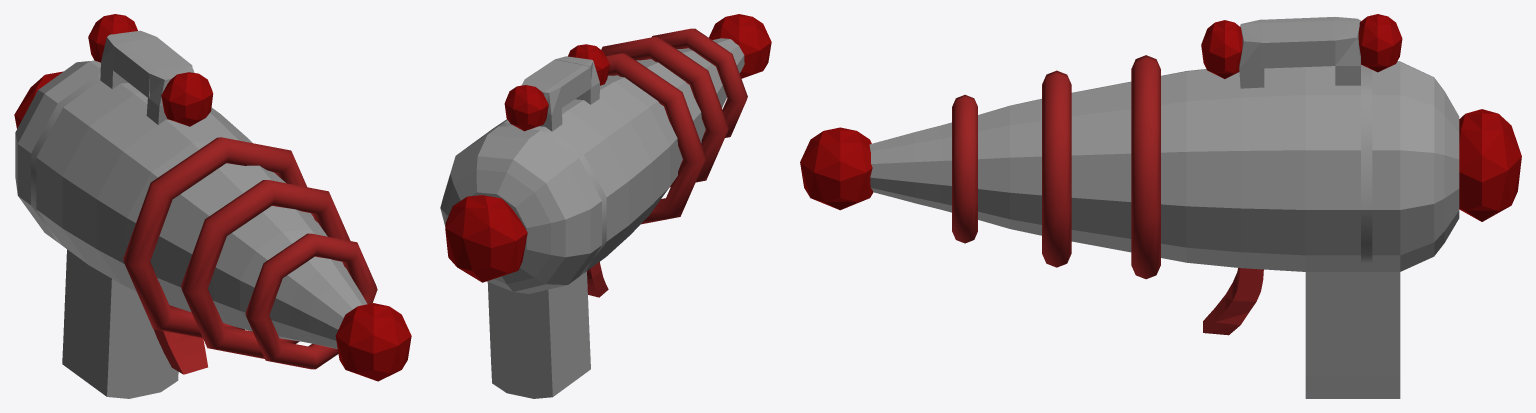
The model's file is UFO-Teil Laserpistole.FBX.
3 views of the same model, side by side, from view 1: azimuth 30°, elevation 25°; view 2: azimuth 150°, elevation 25°; view 3: azimuth 270°, elevation 25° (orthographic). The views are drawn at different scales.
Parts seen in each view (by area): view 1: Cylinder001, Torus003, Torus001, Torus002, GeoSphere001, GeoSphere003, GeoSphere004, GeoSphere002; view 2: Cylinder001, GeoSphere002, Torus003, Torus001, Torus002, GeoSphere001, GeoSphere004, GeoSphere003; view 3: Cylinder001, Torus003, GeoSphere002, Torus001, GeoSphere001, Torus002, GeoSphere004, GeoSphere003.
Part boxes in pixels (left/top/right/bottom): Cylinder001: left=15, top=30, right=367, bottom=398; Torus003: left=123, top=137, right=312, bottom=338; Torus001: left=181, top=180, right=350, bottom=358; Torus002: left=245, top=233, right=377, bottom=369; GeoSphere001: left=335, top=303, right=411, bottom=381; GeoSphere003: left=161, top=72, right=213, bottom=126; GeoSphere004: left=88, top=14, right=137, bottom=62; GeoSphere002: left=14, top=71, right=63, bottom=128; Cylinder001: left=440, top=38, right=744, bottom=398; GeoSphere002: left=445, top=195, right=527, bottom=282; Torus003: left=606, top=53, right=705, bottom=224; Torus001: left=601, top=37, right=728, bottom=187; Torus002: left=652, top=28, right=747, bottom=137; GeoSphere001: left=709, top=14, right=771, bottom=78; GeoSphere004: left=504, top=85, right=548, bottom=131; GeoSphere003: left=568, top=44, right=609, bottom=85; Cylinder001: left=869, top=17, right=1459, bottom=398; Torus003: left=1131, top=55, right=1160, bottom=279; GeoSphere002: left=1459, top=109, right=1521, bottom=221; Torus001: left=1042, top=70, right=1071, bottom=267; GeoSphere001: left=800, top=127, right=873, bottom=210; Torus002: left=952, top=95, right=977, bottom=243; GeoSphere004: left=1358, top=14, right=1402, bottom=72; GeoSphere003: left=1201, top=20, right=1242, bottom=78.
Size of the model in its own units: 39.31 by 68.19 by 119.
